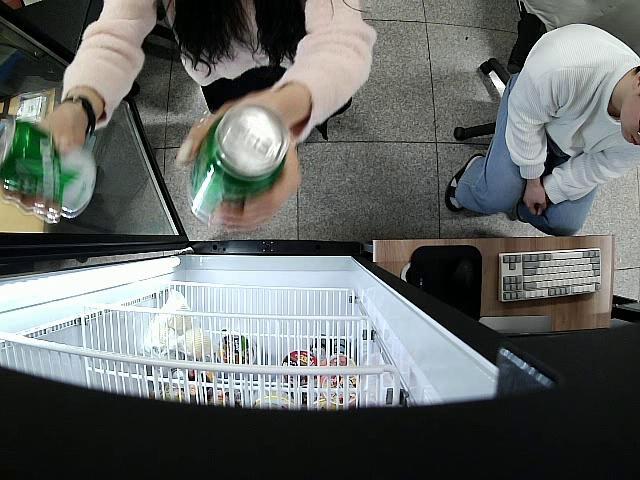00_hand: (175, 101, 302, 230), (1, 99, 84, 226)
12_chilsungCider: (186, 100, 291, 229), (0, 111, 98, 223)
